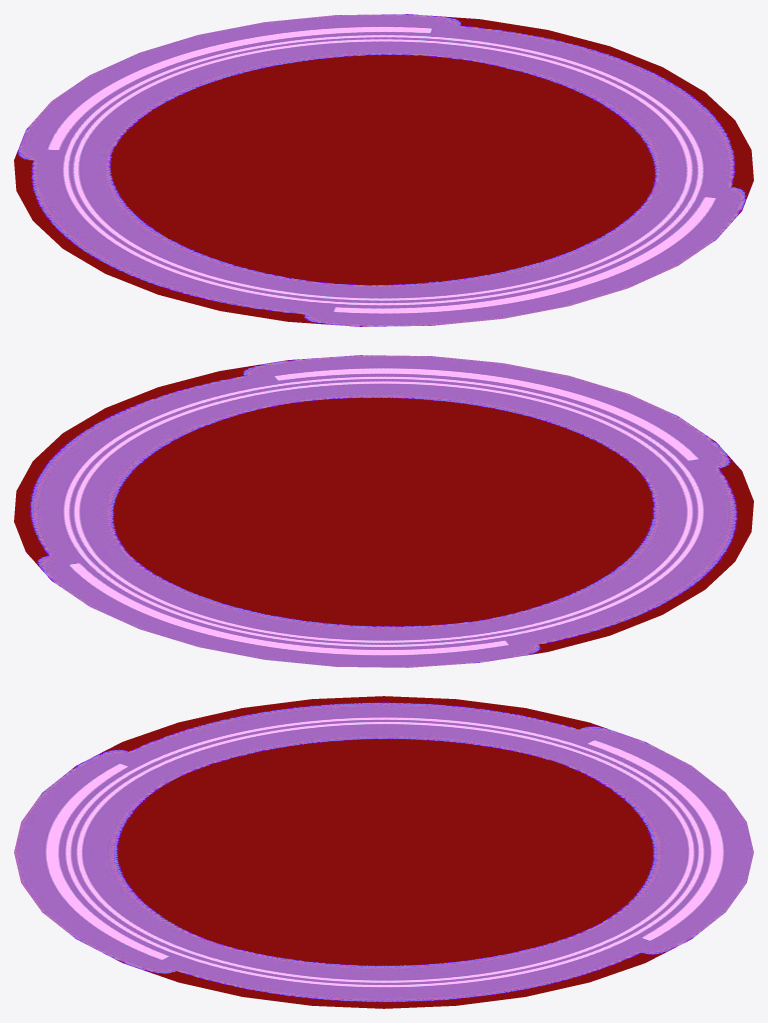
The model's file is fullRedCircle.glb.
3 renders of one model, top to bottom at view 1: azimuth 30°, elevation 25°; view 2: azimuth 150°, elevation 25°; view 3: azimuth 270°, elevation 25°, orthographic.
Parts seen in each view (by area): view 1: Circle; view 2: Circle; view 3: Circle.
Boxes of the visible parts, box(x1,y1,x2,y2) form: Circle: box(14, 14, 753, 326); Circle: box(14, 355, 753, 667); Circle: box(14, 696, 753, 1008).
Bounding box in the file's own units: 1.29 × 0 × 1.29.
1 material, 1 textured.
